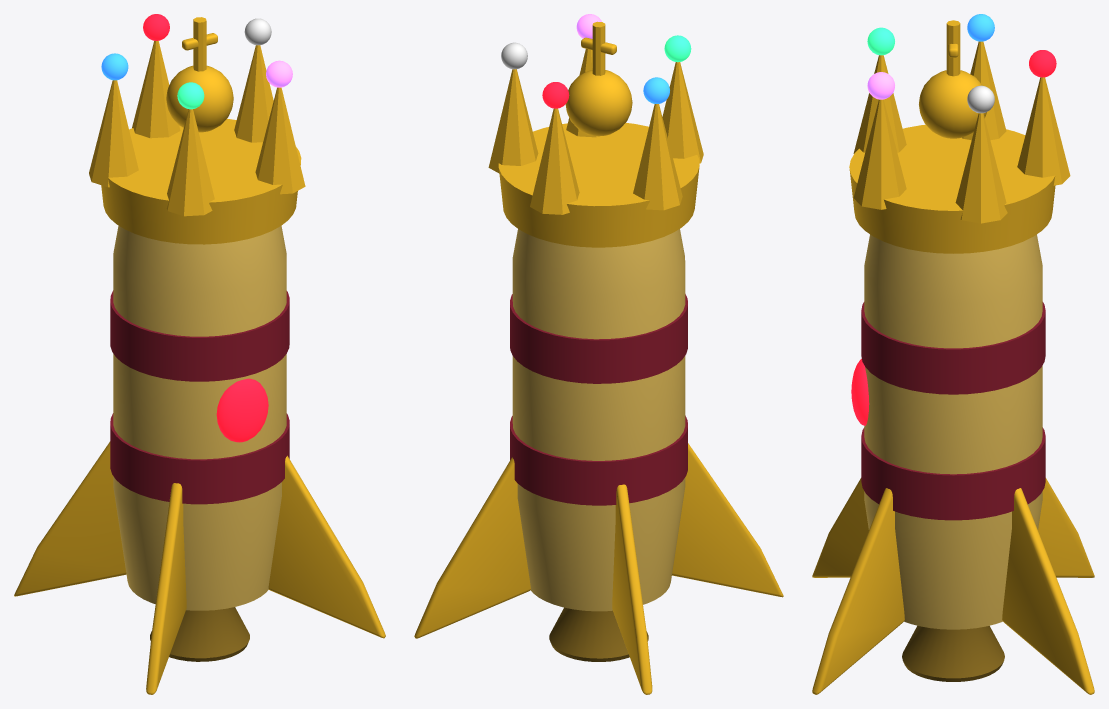
Rendered from Rocket_37_RoyalCrown.fbx.
The picture shows the model from 3 angles, left to right: view 1: azimuth 30°, elevation 25°; view 2: azimuth 150°, elevation 25°; view 3: azimuth 270°, elevation 25°; orthographic projection. The views are drawn at different scales.
Parts seen in each view (by area): view 1: R37_Body, R37_CrownBase, R37_Fin_4, R37_Velvet_2, R37_Fin_2, R37_Velvet, R37_Fin_3, R37_Nozzle, R37_CrownSpike_3, R37_CrownSpike_4, R37_CrownSpike_2, R37_Orb (+9 smaller); view 2: R37_Body, R37_CrownBase, R37_Fin, R37_Velvet_2, R37_Fin_3, R37_Velvet, R37_Fin_2, R37_Orb, R37_Nozzle, R37_CrownSpike, R37_CrownSpike_2, R37_CrownSpike_5 (+6 smaller); view 3: R37_Body, R37_CrownBase, R37_Velvet_2, R37_Velvet, R37_Fin, R37_Fin_4, R37_Nozzle, R37_CrownSpike_5, R37_CrownSpike_4, R37_Orb, R37_CrownSpike, R37_Fin_2 (+10 smaller).
Boxes of the visible parts, left/top/right/bottom form: R37_Body: left=113, top=225, right=286, bottom=610; R37_CrownBase: left=101, top=118, right=301, bottom=244; R37_Fin_4: left=268, top=455, right=385, bottom=638; R37_Velvet_2: left=110, top=290, right=289, bottom=381; R37_Fin_2: left=14, top=441, right=126, bottom=596; R37_Velvet: left=110, top=413, right=289, bottom=504; R37_Fin_3: left=146, top=483, right=186, bottom=694; R37_Nozzle: left=150, top=607, right=249, bottom=661; R37_CrownSpike_3: left=166, top=109, right=214, bottom=216; R37_CrownSpike_4: left=255, top=87, right=305, bottom=194; R37_CrownSpike_2: left=89, top=80, right=138, bottom=187; R37_Orb: left=166, top=65, right=233, bottom=132; R37_Body: left=512, top=229, right=685, bottom=611; R37_CrownBase: left=498, top=123, right=699, bottom=247; R37_Fin: left=414, top=457, right=530, bottom=638; R37_Velvet_2: left=510, top=294, right=687, bottom=383; R37_Fin_3: left=672, top=443, right=783, bottom=597; R37_Velvet: left=510, top=415, right=687, bottom=505; R37_Fin_2: left=612, top=484, right=652, bottom=694; R37_Orb: left=565, top=70, right=632, bottom=136; R37_Nozzle: left=549, top=607, right=648, bottom=661; R37_CrownSpike: left=530, top=108, right=579, bottom=214; R37_CrownSpike_2: left=633, top=104, right=682, bottom=210; R37_CrownSpike_5: left=488, top=69, right=538, bottom=173; R37_Body: left=864, top=234, right=1042, bottom=629; R37_CrownBase: left=849, top=124, right=1055, bottom=253; R37_Velvet_2: left=861, top=302, right=1045, bottom=394; R37_Velvet: left=861, top=427, right=1045, bottom=520; R37_Fin: left=1002, top=488, right=1094, bottom=694; R37_Fin_4: left=812, top=488, right=904, bottom=694; R37_Nozzle: left=902, top=625, right=1004, bottom=681; R37_CrownSpike_5: left=955, top=113, right=1007, bottom=223; R37_CrownSpike_4: left=853, top=99, right=906, bottom=209; R37_Orb: left=919, top=70, right=986, bottom=138; R37_CrownSpike: left=1017, top=77, right=1070, bottom=185; R37_Fin_2: left=1038, top=478, right=1094, bottom=577.
Size of the model in its own units: 2.85 by 7.1 by 2.85.
